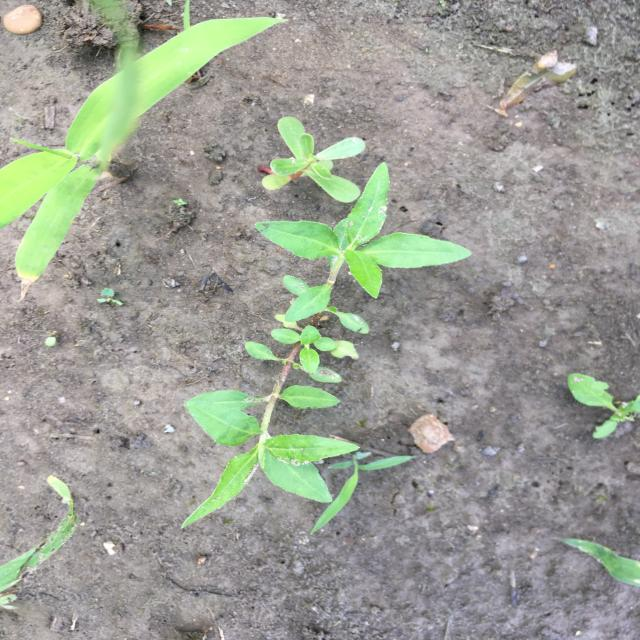Eclipta: (178, 159, 478, 531)
Purslane: (253, 112, 370, 204)
